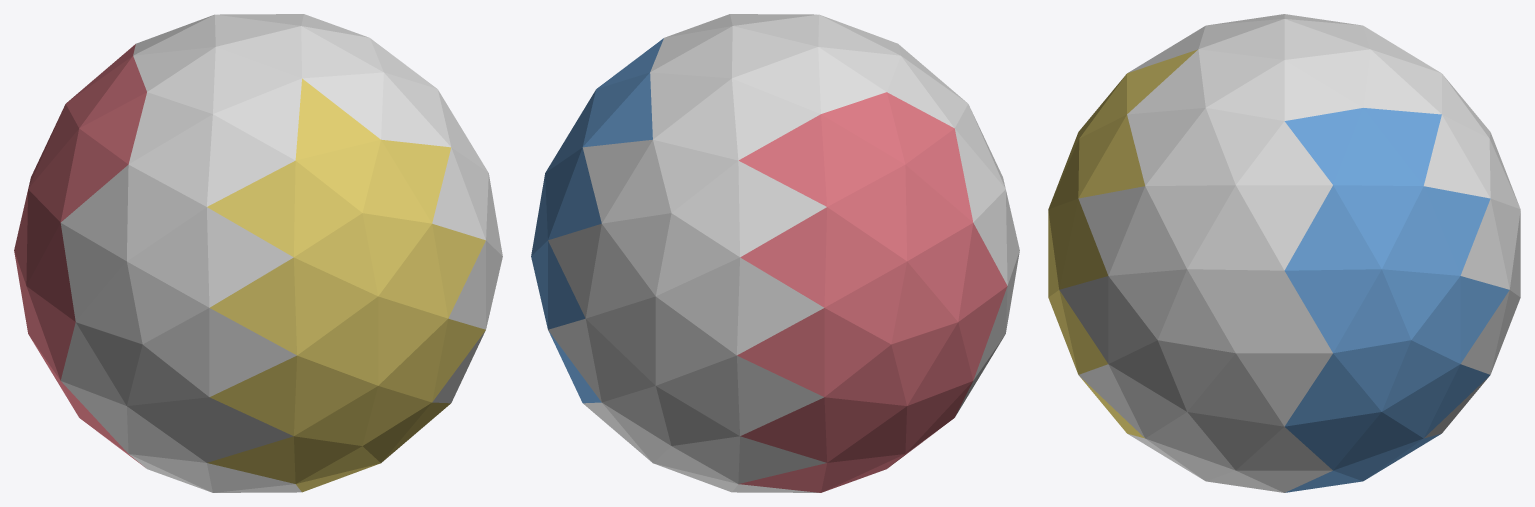
Rendered from asset.glb.
3 views of the same model, side by side, from view 1: azimuth 30°, elevation 25°; view 2: azimuth 150°, elevation 25°; view 3: azimuth 270°, elevation 25° (orthographic).
Parts seen in each view (by area): view 1: BeachBall; view 2: BeachBall; view 3: BeachBall.
Part boxes in pixels (x1,y1,x2,y2): BeachBall: (14,14,502,492); BeachBall: (531,14,1019,492); BeachBall: (1048,14,1520,492).
Size of the model in its own units: 0.9794 by 0.9794 by 0.9794.
